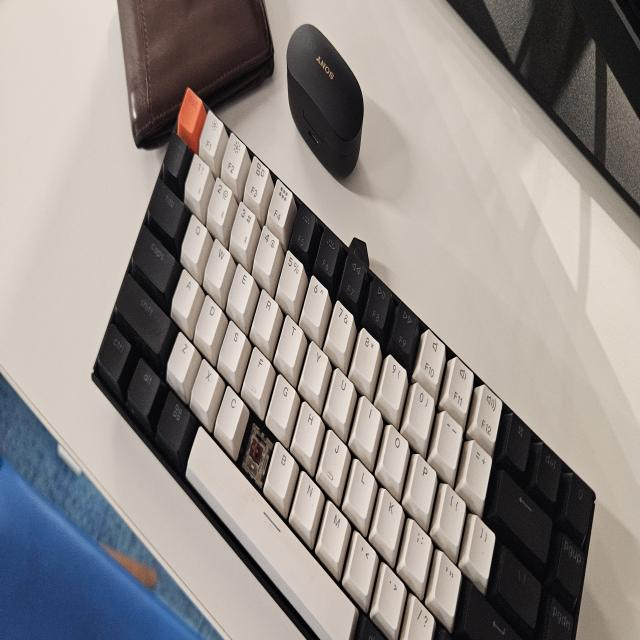C: (249, 424, 264, 477)
